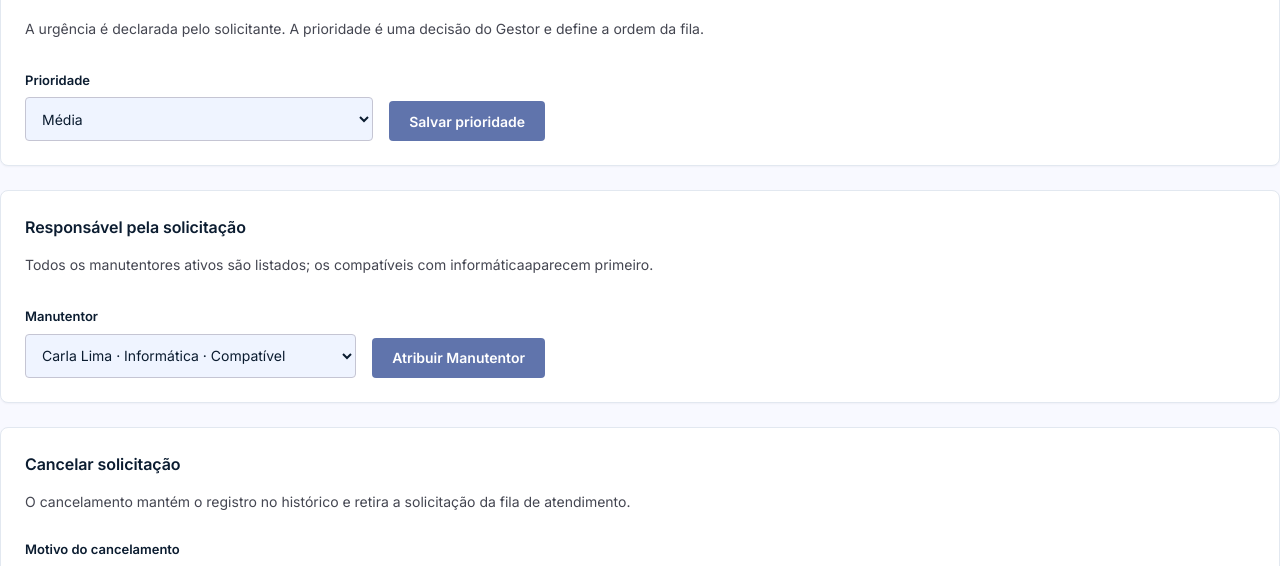
Test: SolicitationDetail › shows all maintainers in server order and assigns the selected one
(page scrolled)
Select "Carla Lima · Informática · Compatível" in the dropdown named "Manutentor responsável" at (191, 356), box [25,334,356,378]
Select "Carla Lima · Informática · Compatível" in the dropdown named "Manutentor responsável" at (191, 356), box [25,334,356,378]
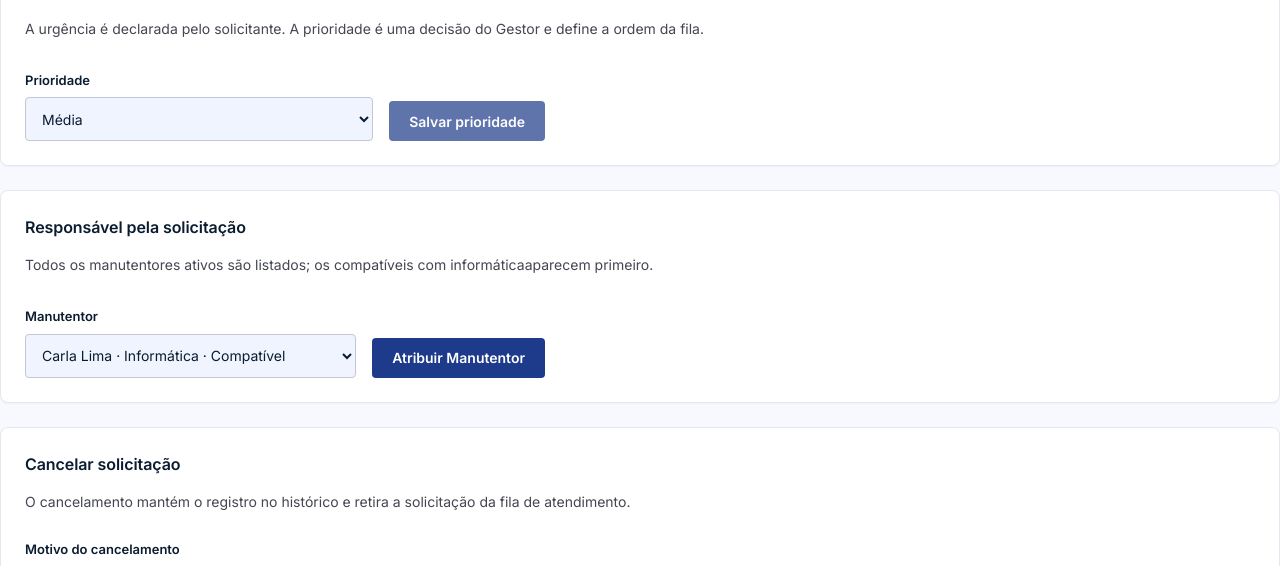
Click the button "Atribuir Manutentor" at (459, 358), box [372,338,545,378]
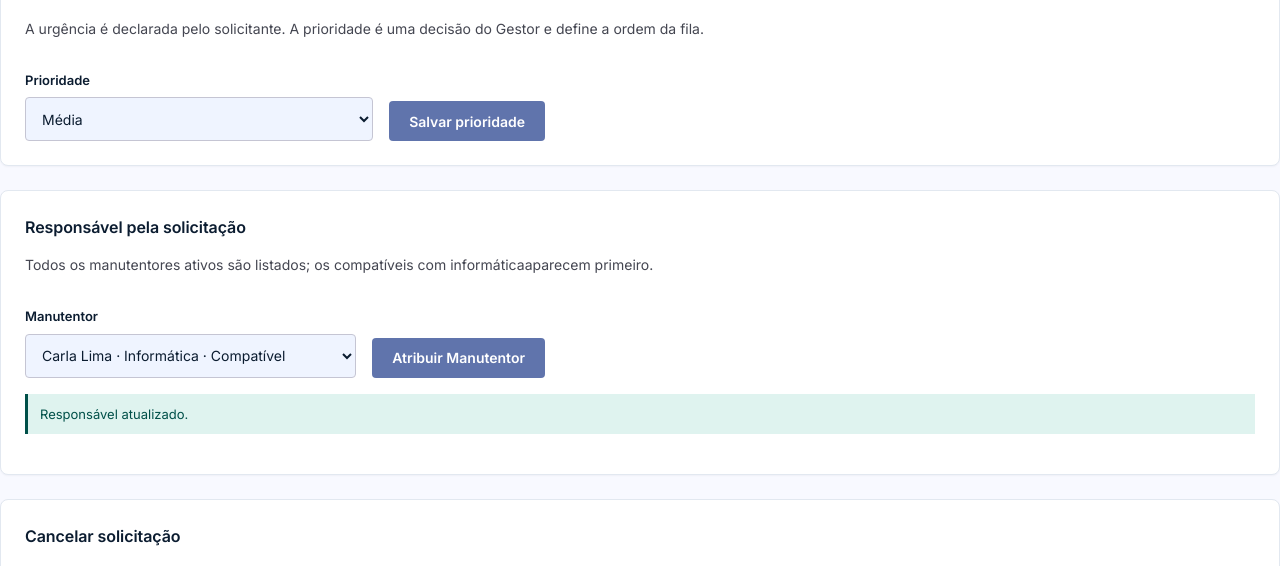
Expected: the text "Responsável atualizado." is shown, [25,394,1255,434]
